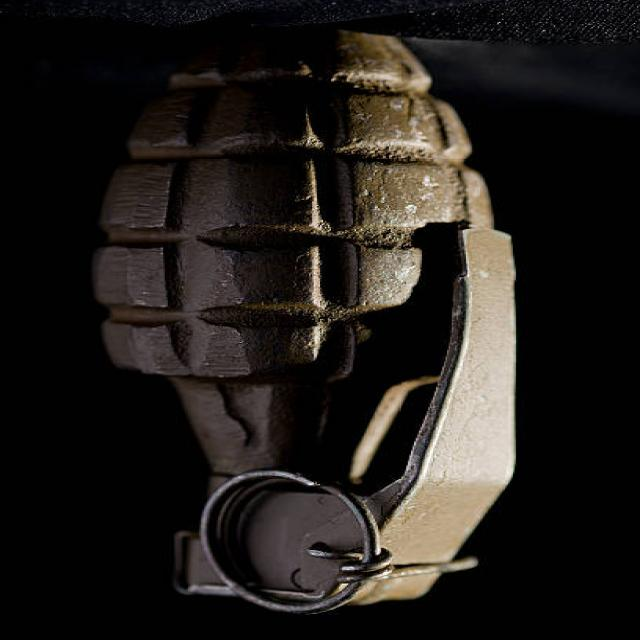grenade: (88, 26, 534, 613)
